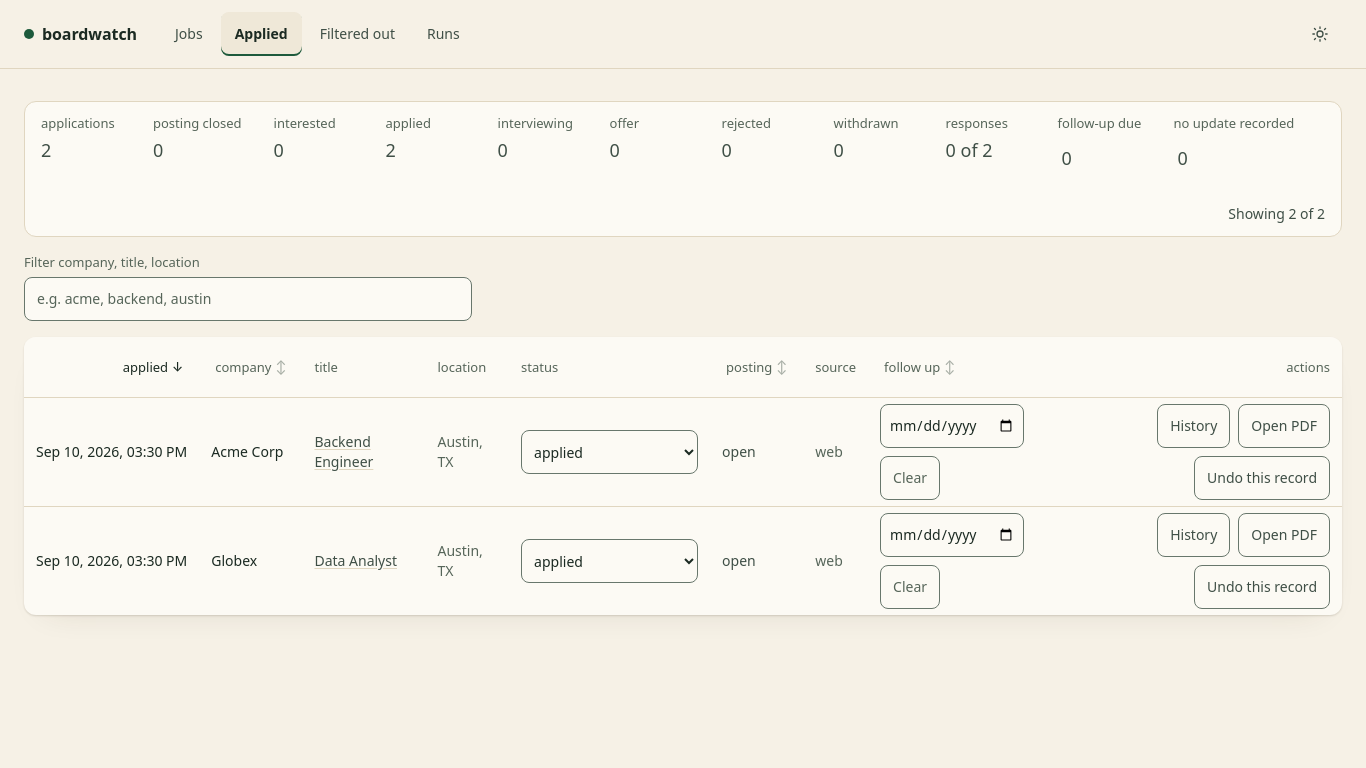
it: search and sort › filters on company, title and location, and reports how many are showing
The width and height of the screenshot is (1366, 768).
Type "globex" into the search field at (248, 299), box [24, 277, 472, 321]
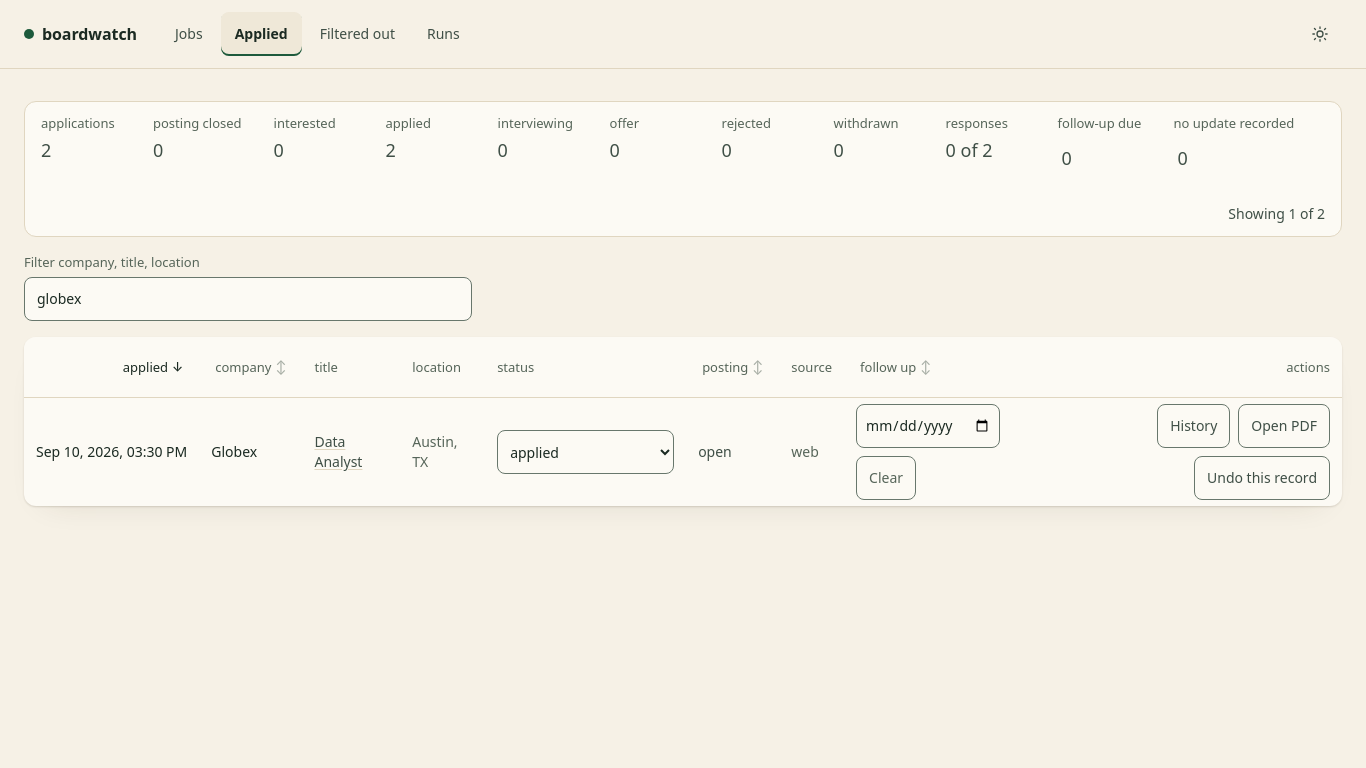
Expected: the text "Globex" is shown, [199, 398, 302, 506]
Now the message "Showing 1 of 2" is shown, box [1228, 204, 1325, 223]
